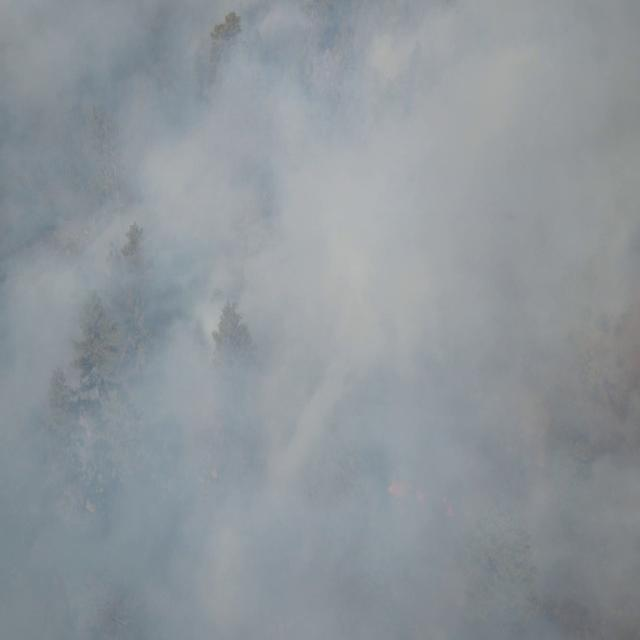fire: (436, 490, 457, 524), (410, 482, 426, 508), (384, 481, 404, 499)
smoke: (0, 0, 640, 640)
